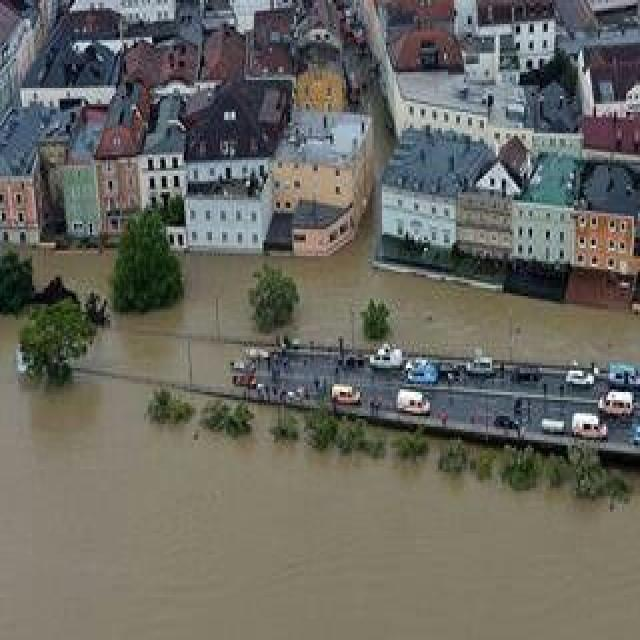flooded_areas: (2, 245, 638, 638), (316, 0, 400, 245)
